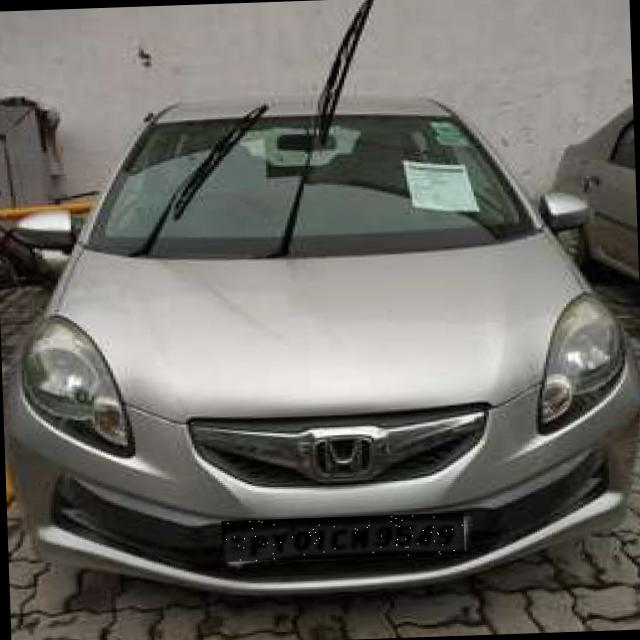Plate: (222, 514, 465, 563)
